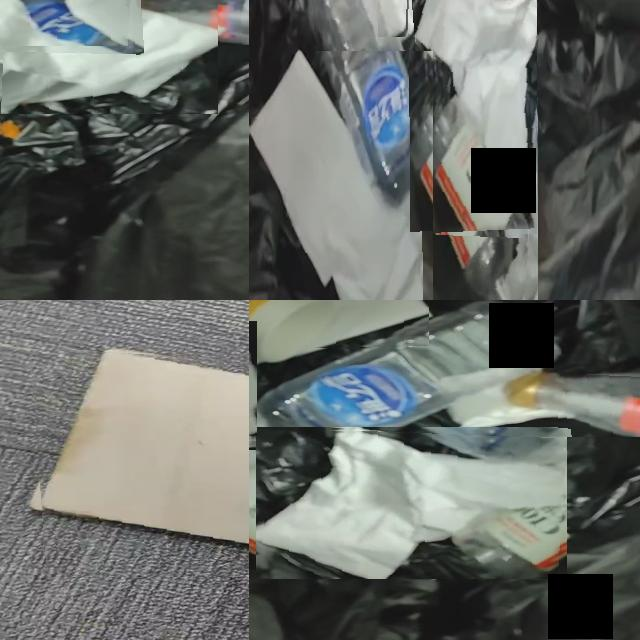bottle: (312, 0, 427, 207), (421, 99, 516, 300), (249, 470, 362, 570), (508, 373, 640, 437), (131, 0, 249, 43), (22, 0, 124, 46)
carton: (39, 353, 249, 543)
dixie_cup: (249, 300, 336, 362)
paper: (256, 430, 565, 579), (250, 51, 433, 300), (415, 0, 537, 231), (0, 0, 218, 113), (441, 363, 559, 428), (315, 300, 429, 348), (419, 236, 451, 300), (378, 0, 409, 37), (424, 166, 442, 215)
